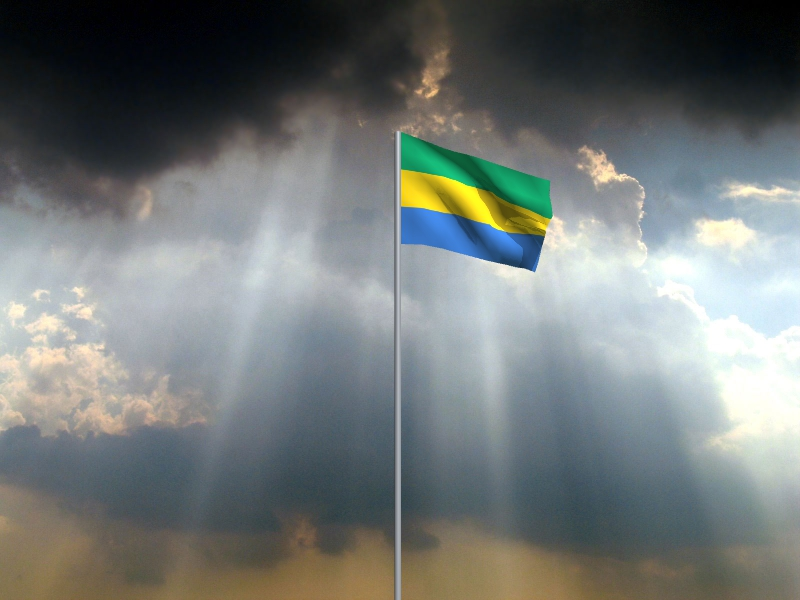ga: (402, 133, 554, 274)
